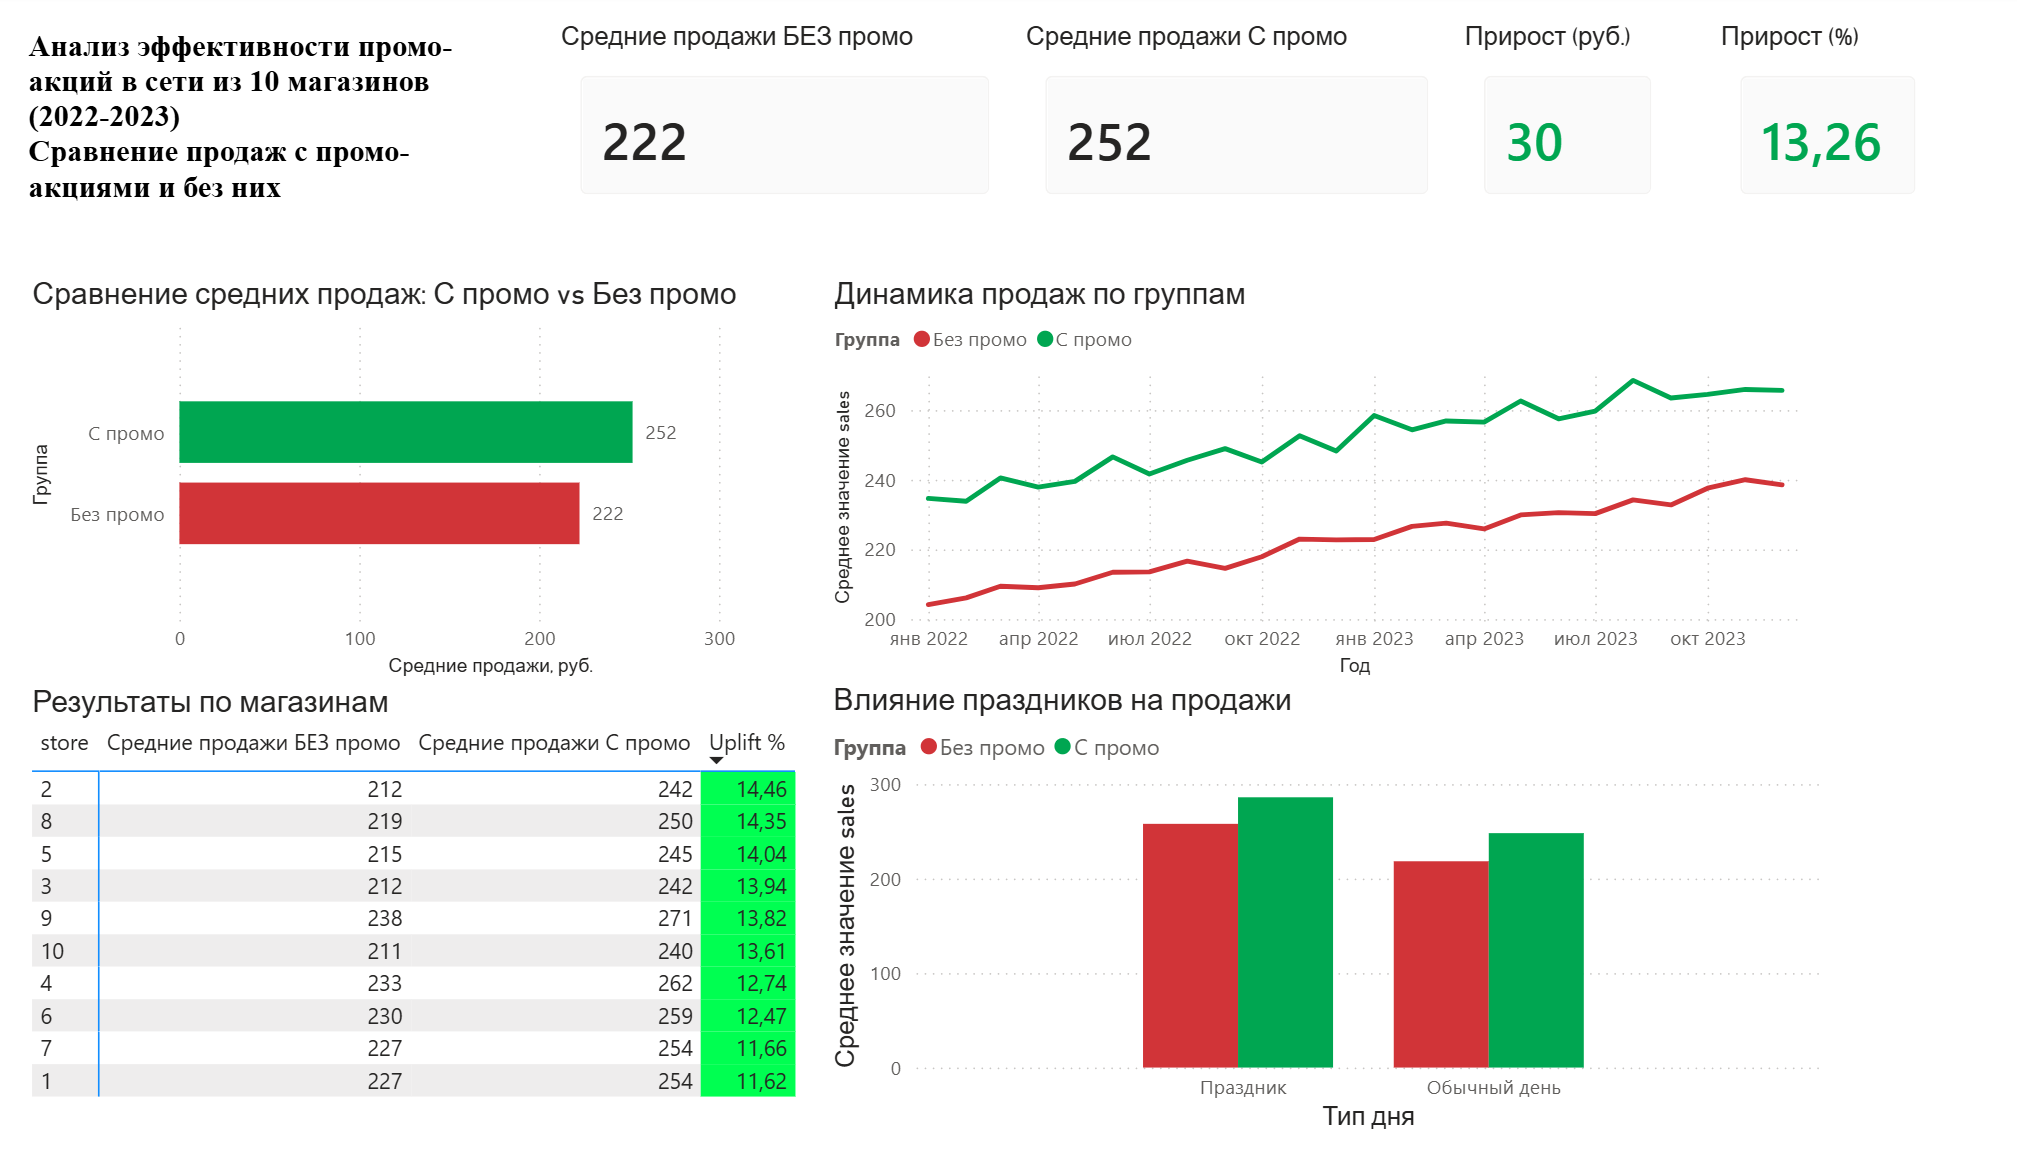

This screenshot's page, from the dashboard's own definition file:
{"tool":"powerbi","page":{"name":"Страница 1","canvas":[1280,720],"ordinal":0},"visuals":[{"type":"actionButton","box":[0,0,100,40],"z":0},{"type":"cardVisual","title":"Средние продажи БЕЗ промо","fields":{"Data":["store_sales.Средние продажи БЕЗ промо"]},"box":[375.7,16,286.7,124.5],"z":1000},{"type":"cardVisual","title":"Средние продажи С промо","fields":{"Data":["store_sales.Средние продажи С промо"]},"box":[662.4,16,270.7,124.5],"z":2000},{"type":"cardVisual","title":"Прирост (руб.)","fields":{"Data":["store_sales.Uplift рубли"]},"box":[933.1,16,137,124.5],"z":3000},{"type":"cardVisual","title":"Прирост (%)","fields":{"Data":["store_sales.Uplift %"]},"box":[1090.7,16,142.8,124.5],"z":4000},{"type":"clusteredBarChart","title":"Сравнение средних продаж: С промо vs Без промо","fields":{"Category":["store_sales.Группа"],"Y":["Avg(store_sales.sales)"]},"box":[50.2,173.6,494.5,251.2],"z":5000},{"type":"lineChart","title":"Динамика продаж по группам","fields":{"Y":["Avg(store_sales.sales)"],"Series":["store_sales.Группа"],"Category":["store_sales.date.Изменение.Иерархия дат.Год","store_sales.date.Изменение.Иерархия дат.Месяц"]},"box":[544.8,173.6,617.8,251.2],"z":6000},{"type":"pivotTable","title":"Результаты по магазинам","fields":{"Rows":["store_sales.store"],"Values":["store_sales.Средние продажи БЕЗ промо","store_sales.Средние продажи С промо","store_sales.Uplift %"]},"box":[50.2,424.8,494.5,280.9],"z":7000},{"type":"clusteredColumnChart","title":"Влияние праздников на продажи","fields":{"Category":["store_sales.Тип дня"],"Y":["Avg(store_sales.sales)"],"Series":["store_sales.Группа"]},"box":[544,424,618,281],"z":8000},{"type":"textbox","box":[48,16,304,128],"z":9000}]}

Visuals, with their boxes in screenshot pixels (x1, y1, x2, y2), scaled from the page's 1280x720 canvas onto the 2017x1162 screenshot:
actionButton: [0, 0, 158, 65]
"Средние продажи БЕЗ промо" cardVisual: [592, 26, 1044, 227]
"Средние продажи С промо" cardVisual: [1044, 26, 1470, 227]
"Прирост (руб.)" cardVisual: [1470, 26, 1686, 227]
"Прирост (%)" cardVisual: [1719, 26, 1944, 227]
"Сравнение средних продаж: С промо vs Без промо" clusteredBarChart: [79, 280, 858, 686]
"Динамика продаж по группам" lineChart: [858, 280, 1832, 686]
"Результаты по магазинам" pivotTable: [79, 686, 858, 1139]
"Влияние праздников на продажи" clusteredColumnChart: [857, 684, 1831, 1138]
textbox: [76, 26, 555, 232]
